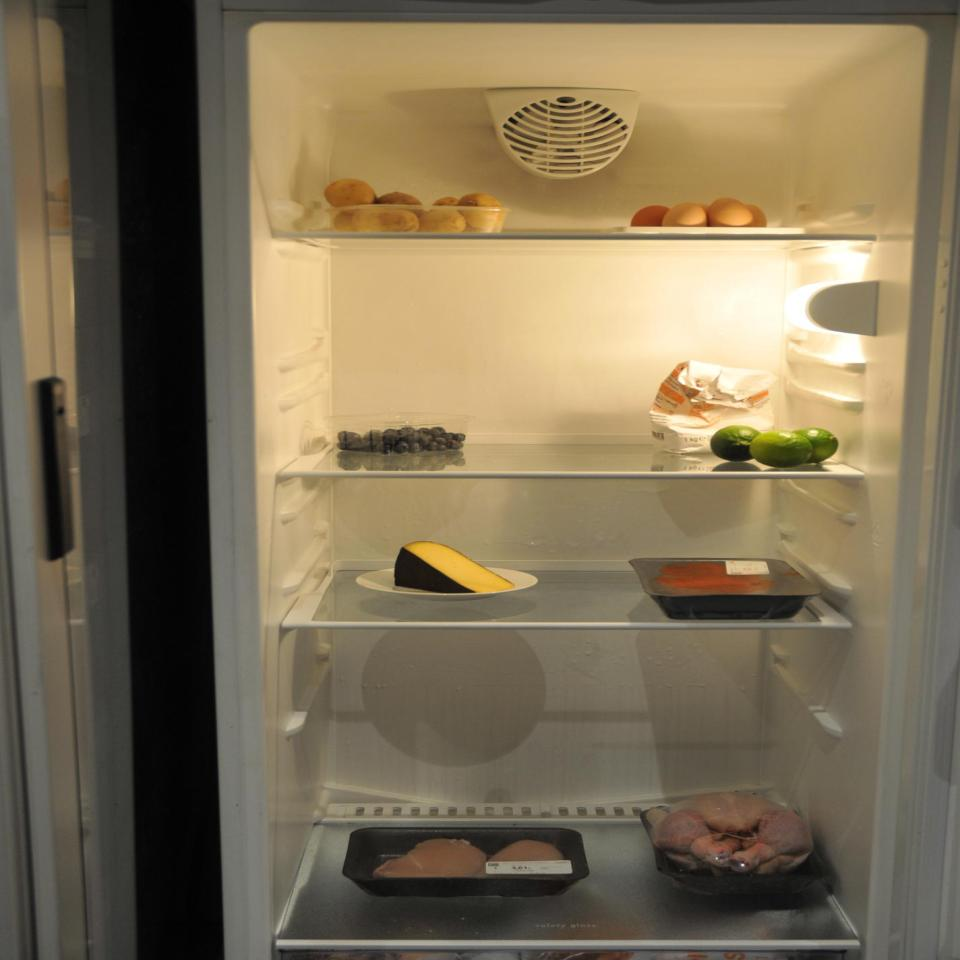Carne pollo: (360, 820, 588, 886), (640, 794, 816, 874)
Huevos: (625, 196, 796, 236)
Queso: (396, 537, 524, 599)
